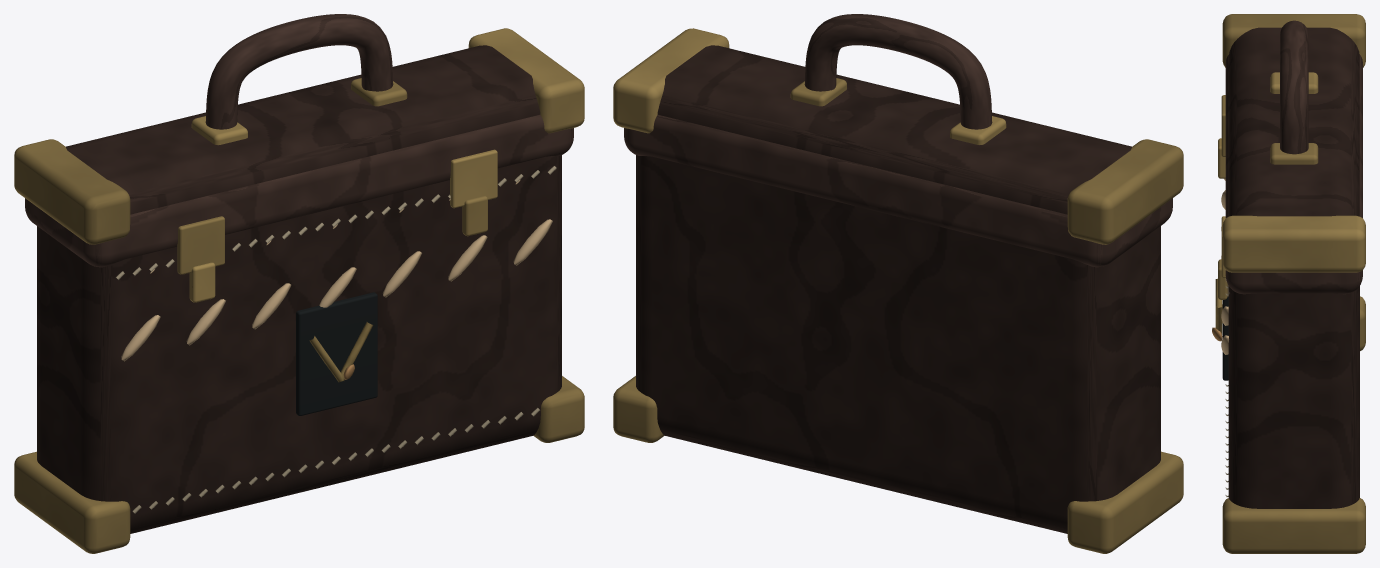
3 views of the same model, side by side, from view 1: azimuth 30°, elevation 25°; view 2: azimuth 150°, elevation 25°; view 3: azimuth 270°, elevation 25° (orthographic). The views are drawn at different scales.
Parts seen in each view (by area): view 1: oiled dark leather, aged brass fittings, waxed leather, recesses, thread loop, linen thread; view 2: oiled dark leather, waxed leather, aged brass fittings; view 3: oiled dark leather, aged brass fittings, waxed leather, thread loop, recesses.
Boxes of the visible parts, left/top/right/bottom form: oiled dark leather: left=37, top=45, right=561, bottom=533; aged brass fittings: left=14, top=28, right=584, bottom=553; waxed leather: left=25, top=14, right=573, bottom=267; recesses: left=296, top=292, right=377, bottom=415; thread loop: left=121, top=219, right=552, bottom=361; linen thread: left=115, top=166, right=556, bottom=513; oiled dark leather: left=636, top=45, right=1160, bottom=533; waxed leather: left=624, top=14, right=1172, bottom=267; aged brass fittings: left=613, top=28, right=1183, bottom=553; oiled dark leather: left=1228, top=27, right=1359, bottom=508; aged brass fittings: left=1215, top=14, right=1365, bottom=553; waxed leather: left=1225, top=20, right=1362, bottom=294; thread loop: left=1221, top=178, right=1228, bottom=354; recesses: left=1222, top=296, right=1228, bottom=380.
Size of the model in its own units: 0.44 by 0.377 by 0.129.
7 materials, 4 textured.
